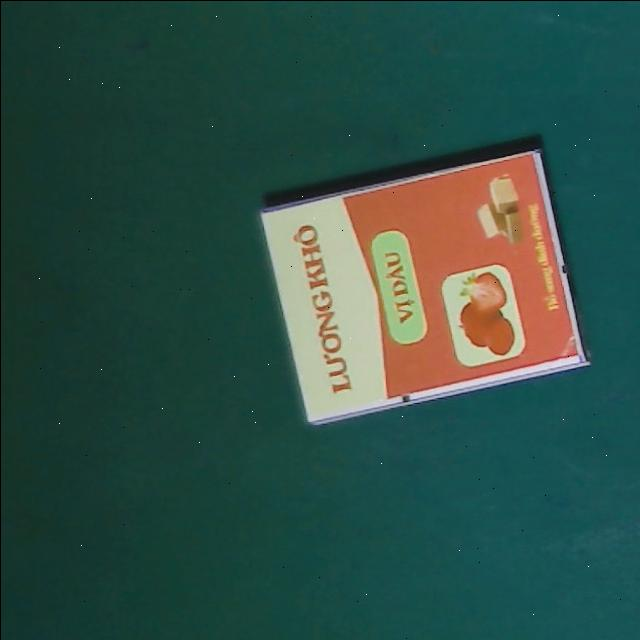dau: (259, 148, 587, 424)
